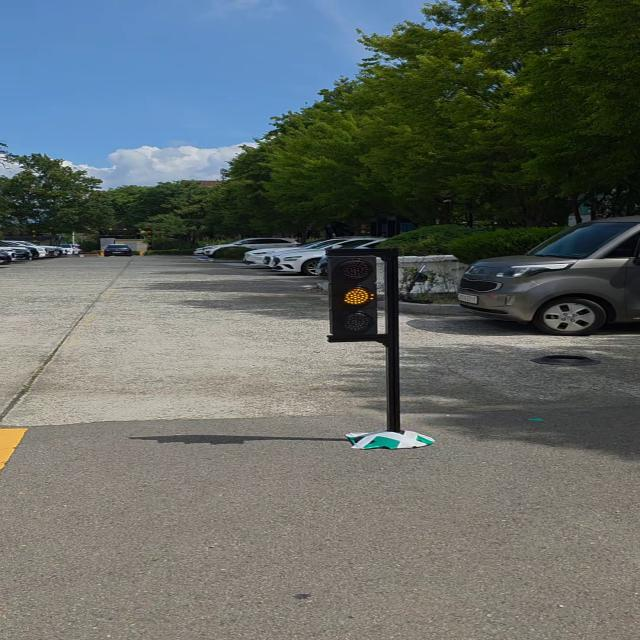yellow: (327, 249, 381, 343)
